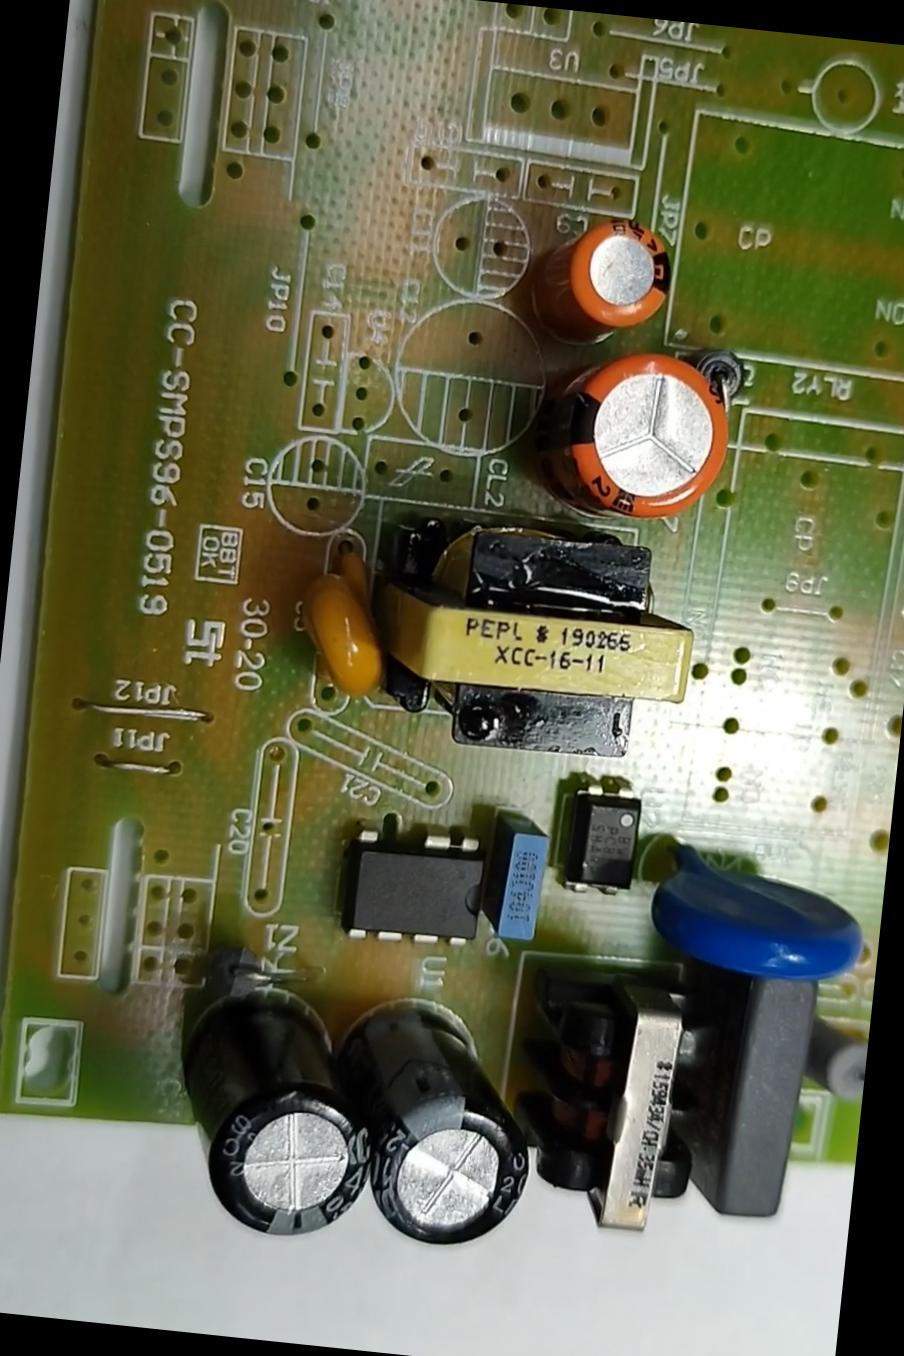Cap1: (501, 336, 761, 525)
Cap2: (508, 191, 706, 368)
Cap3: (331, 971, 544, 1257)
Cap4: (160, 940, 404, 1247)
MOSFET: (305, 793, 525, 968)
Mov: (619, 823, 888, 1011)
Resistor: (795, 1007, 871, 1117)
Transformer: (332, 480, 722, 778), (504, 951, 734, 1249)
